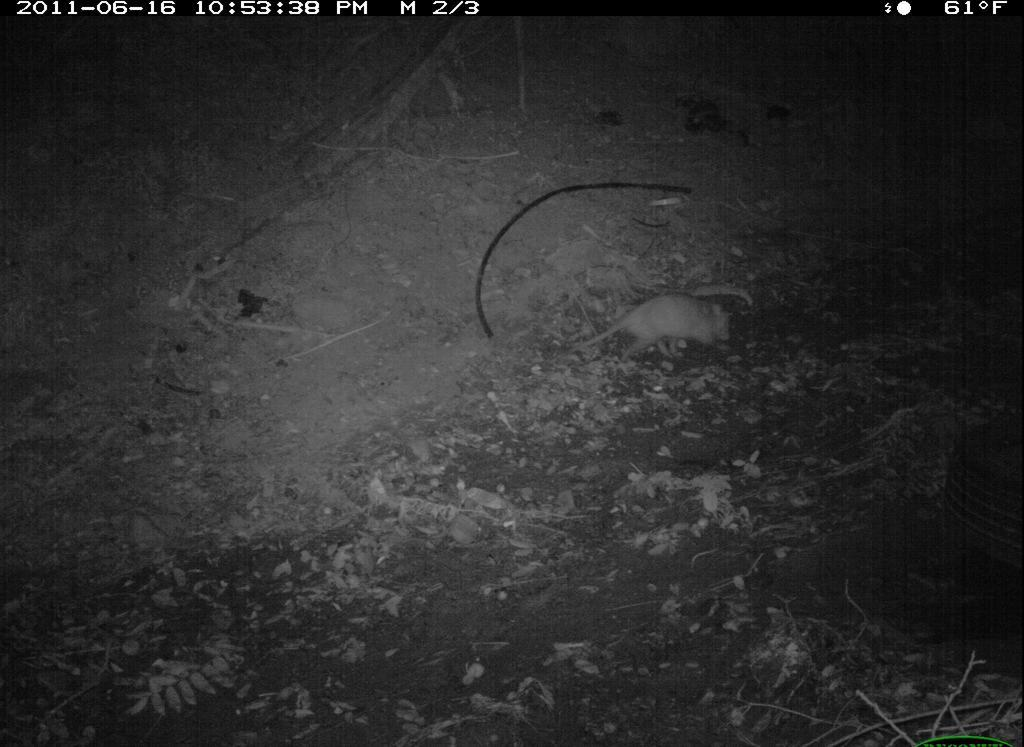opossum: (546, 281, 756, 377)
